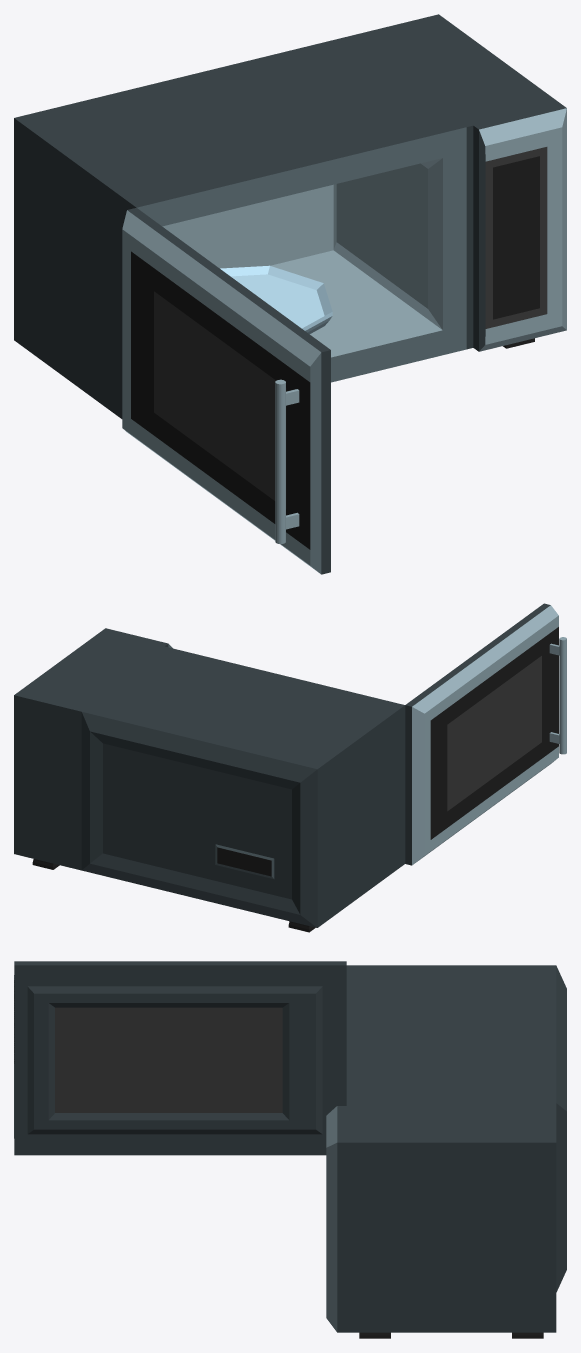
Rendered from Microwave.glb.
3 renders of one model, top to bottom at view 1: azimuth 30°, elevation 25°; view 2: azimuth 150°, elevation 25°; view 3: azimuth 270°, elevation 25°, orthographic. The views are drawn at different scales.
Parts seen in each view (by area): view 1: Microwave_Oven, Microwave_Oven-Door, Microwave_Oven-Plate; view 2: Microwave_Oven, Microwave_Oven-Door; view 3: Microwave_Oven, Microwave_Oven-Door.
Boxes of the visible parts, x1,y1,x2,y2 form: Microwave_Oven: (14, 14, 566, 418); Microwave_Oven-Door: (122, 208, 330, 574); Microwave_Oven-Plate: (220, 265, 332, 334); Microwave_Oven: (14, 628, 405, 932); Microwave_Oven-Door: (405, 603, 566, 865); Microwave_Oven: (326, 965, 566, 1338); Microwave_Oven-Door: (14, 961, 346, 1155).
Bounding box in the file's own units: 0.6658 × 0.3243 × 0.7971.
1 material, 1 textured.
